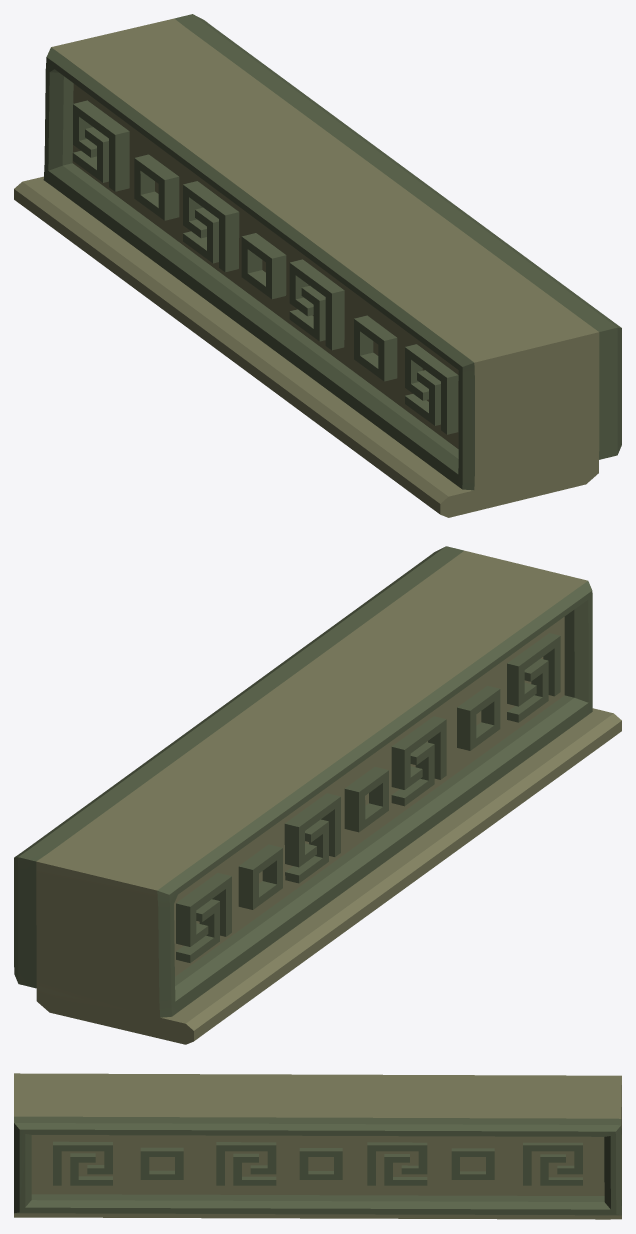
File: arc_fast_table.fbx
The picture shows the model from 3 angles, top to bottom: view 1: azimuth 30°, elevation 25°; view 2: azimuth 150°, elevation 25°; view 3: azimuth 270°, elevation 25°; orthographic projection. The views are drawn at different scales.
Visible parts, largest first — view 1: ark_fast_main; view 2: ark_fast_main; view 3: ark_fast_main.
Boxes of the visible parts, <box> form: ark_fast_main: <box>14,14,621,517</box>; ark_fast_main: <box>14,546,621,1044</box>; ark_fast_main: <box>14,1073,621,1219</box>.
Bounding box in the file's own units: 1.76 × 1.33 × 6.9.
